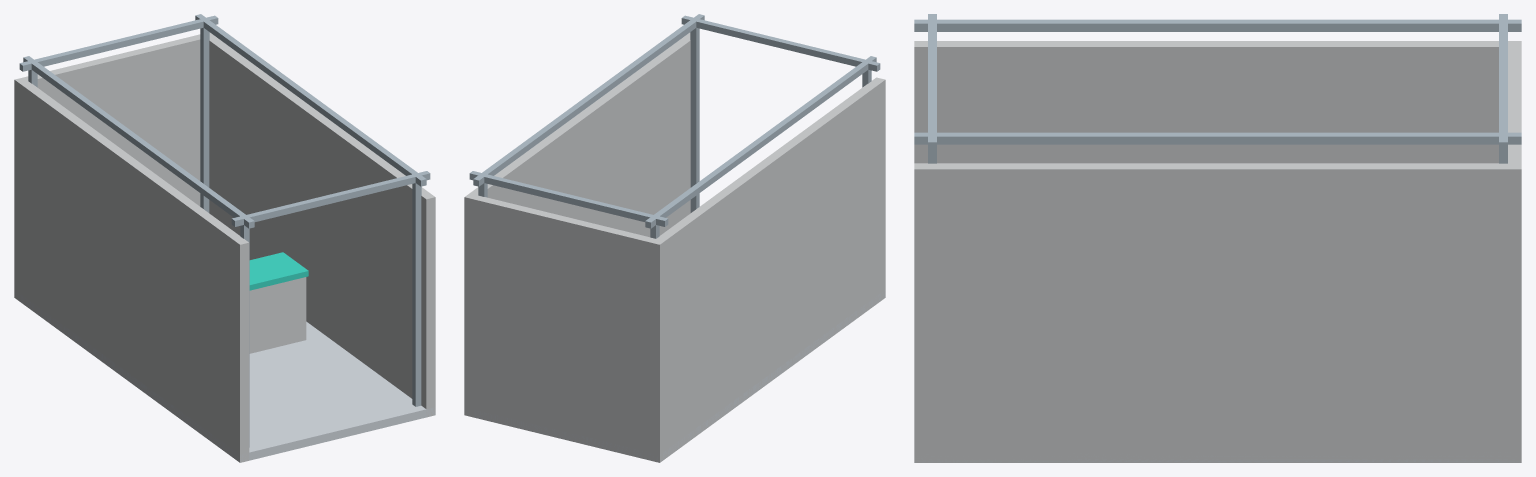
3 renders of one model, left to right at view 1: azimuth 30°, elevation 25°; view 2: azimuth 150°, elevation 25°; view 3: azimuth 270°, elevation 25°, orthographic. The views are drawn at different scales.
Visible parts, largest first — view 1: Exhibition Booth Concept; view 2: Exhibition Booth Concept; view 3: Exhibition Booth Concept.
Boxes of the visible parts, x1,y1,x2,y2 form: Exhibition Booth Concept: (14,14,435,462); Exhibition Booth Concept: (464,14,885,462); Exhibition Booth Concept: (914,14,1521,462).
Bounding box in the file's own units: 3 × 3.49 × 6.
